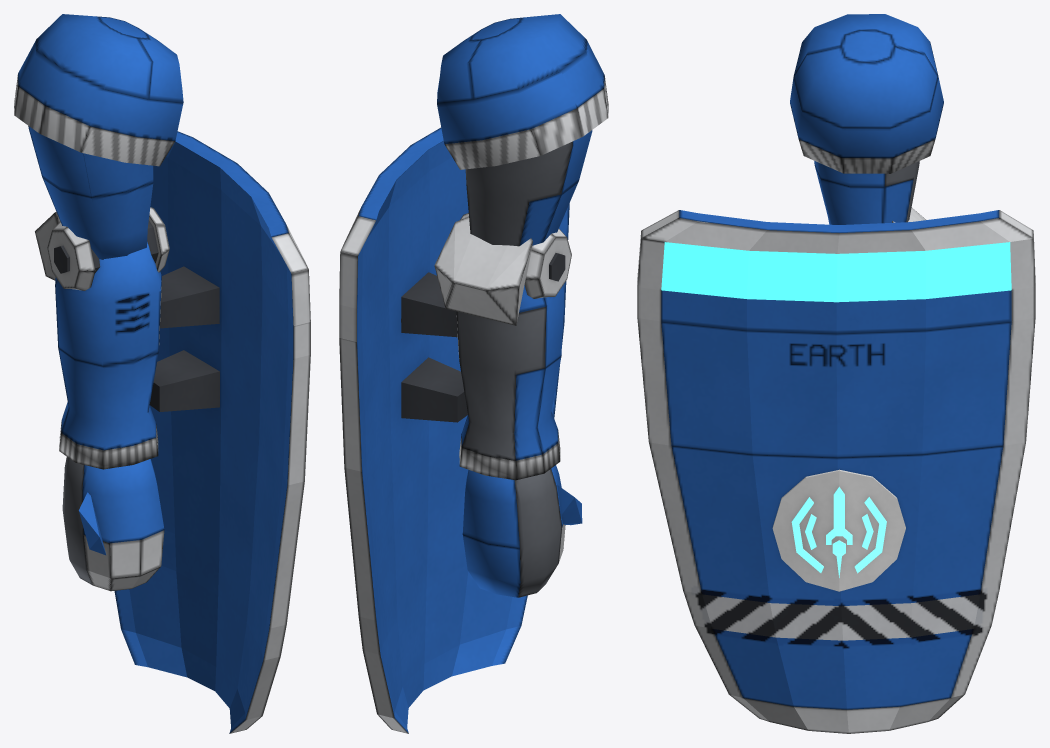
Rendered from RightShieldArmX.glb.
The picture shows the model from 3 angles, left to right: view 1: azimuth 30°, elevation 25°; view 2: azimuth 150°, elevation 25°; view 3: azimuth 270°, elevation 25°; orthographic projection. The views are drawn at different scales.
Visible parts, largest first — view 1: RightShieldArmX_Fore, RightShieldArmX_Upper, RightShieldArmX_Fist; view 2: RightShieldArmX_Fore, RightShieldArmX_Upper, RightShieldArmX_Fist; view 3: RightShieldArmX_Fore, RightShieldArmX_Upper.
Part boxes in pixels (x1,y1,x2,y2): RightShieldArmX_Fore: (35, 131, 310, 733); RightShieldArmX_Upper: (14, 14, 183, 259); RightShieldArmX_Fist: (62, 457, 164, 591); RightShieldArmX_Fore: (339, 127, 571, 733); RightShieldArmX_Upper: (437, 14, 608, 246); RightShieldArmX_Fist: (462, 465, 582, 597); RightShieldArmX_Fore: (637, 207, 1035, 733); RightShieldArmX_Upper: (790, 14, 943, 224).
Size of the model in its own units: 5.84 by 18.85 by 10.45.
8 materials, 6 textured.
